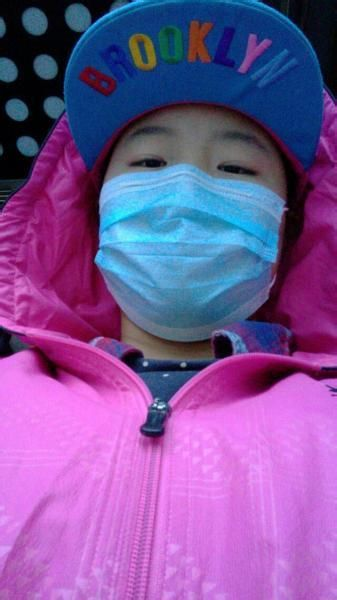face_mask: (95, 79, 279, 339)
